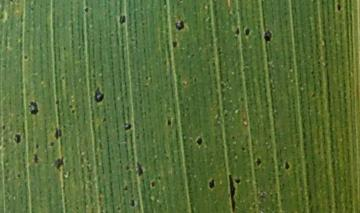tarspot: (226, 169, 236, 213), (91, 83, 106, 106), (27, 97, 41, 119), (261, 26, 273, 46), (53, 154, 66, 172), (173, 18, 187, 33), (52, 126, 64, 143), (116, 11, 128, 27), (134, 161, 144, 178), (123, 120, 134, 134), (242, 25, 252, 40), (282, 157, 291, 173), (12, 131, 22, 145), (194, 134, 204, 148), (128, 196, 136, 213), (207, 176, 216, 191), (170, 38, 181, 50), (165, 116, 173, 131), (81, 4, 91, 16), (334, 1, 344, 13), (254, 155, 263, 168), (148, 179, 158, 189)
